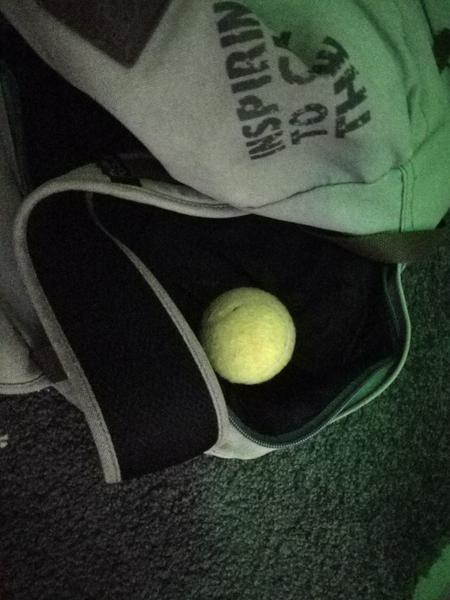Tennisball: (196, 282, 299, 390)
